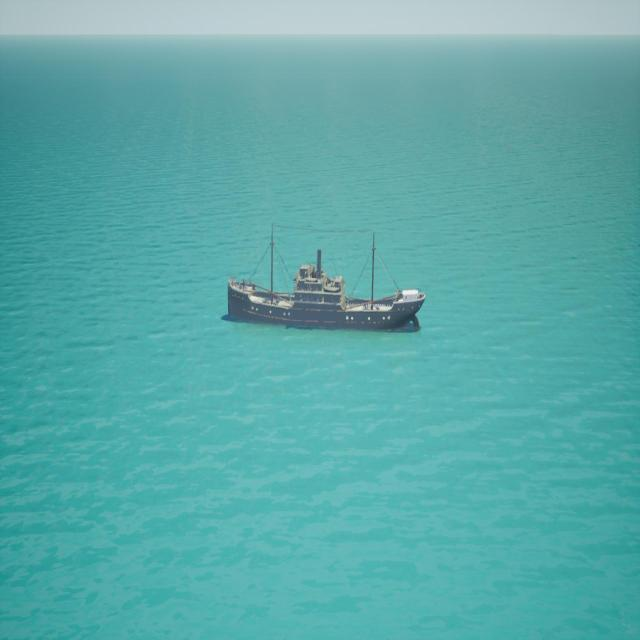fishing ship: (227, 226, 427, 333)
